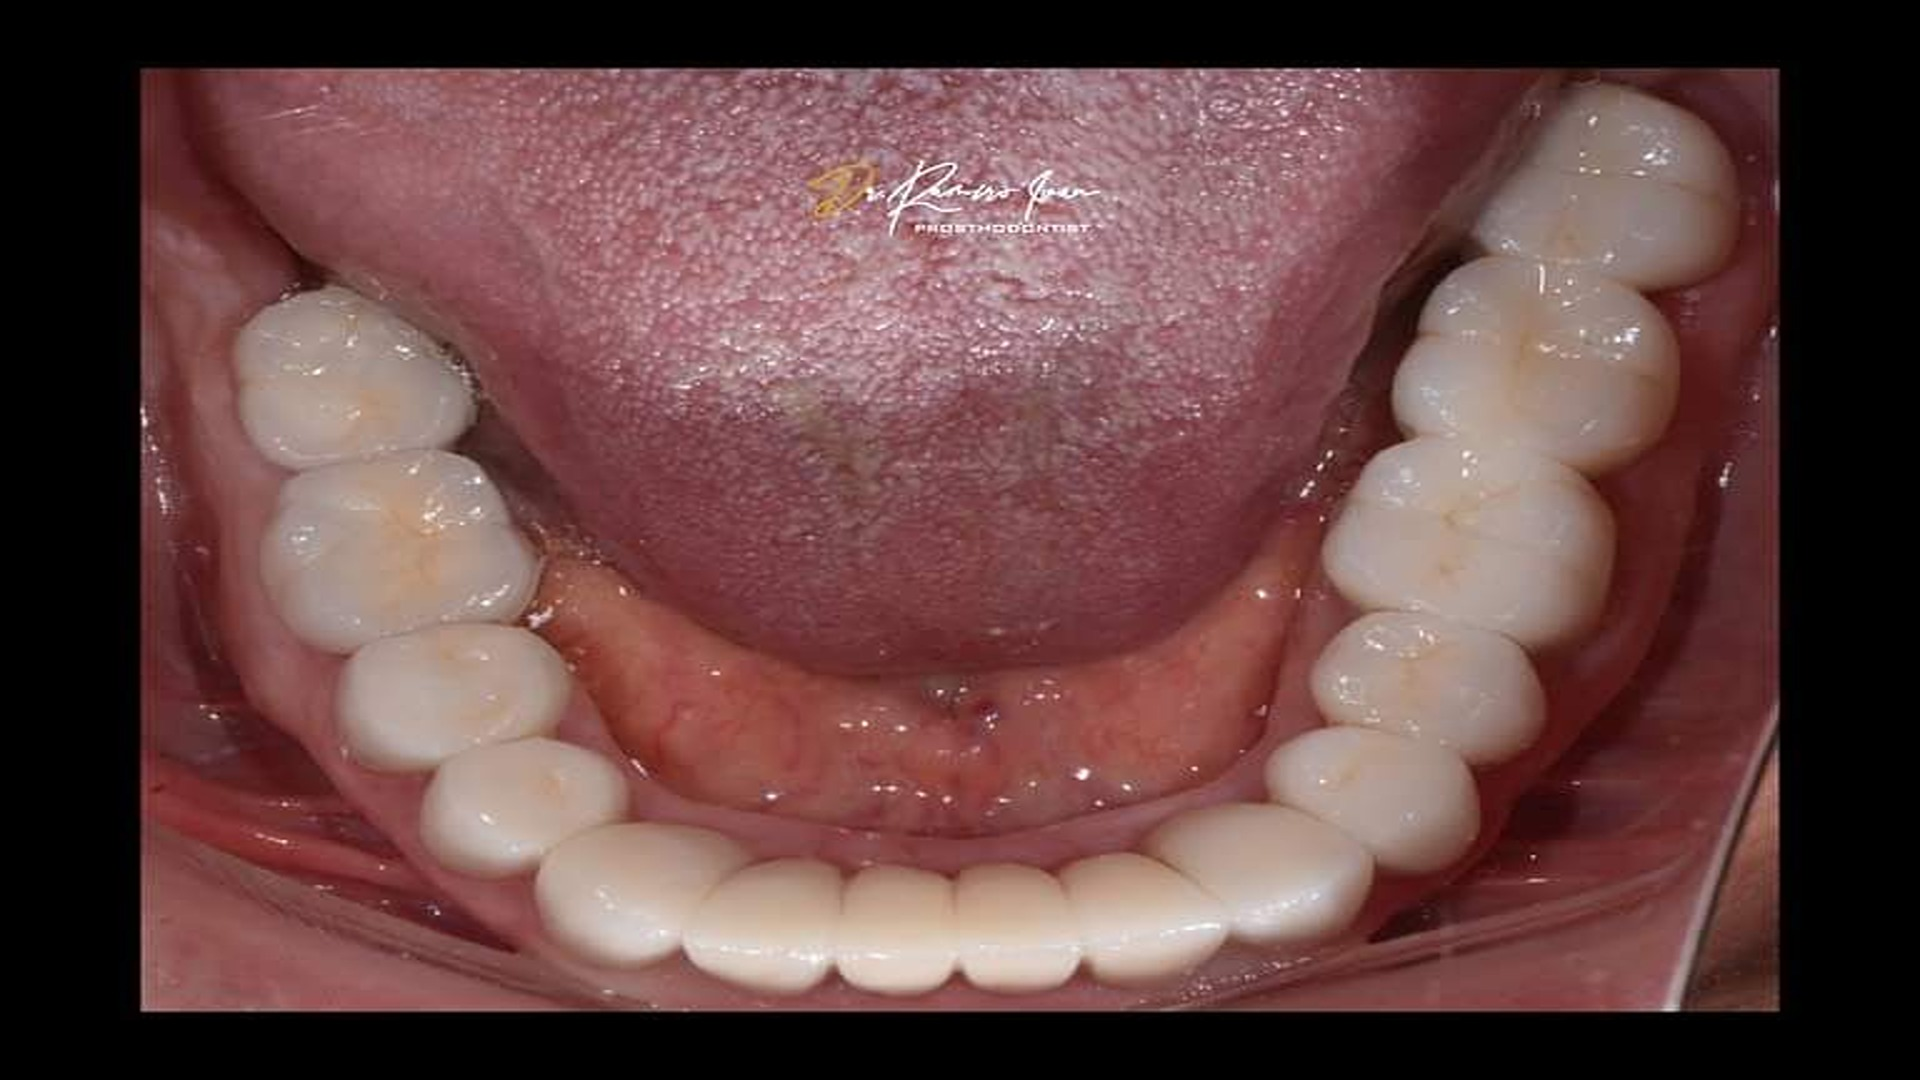tooth: (1390, 256, 1680, 477), (1321, 438, 1615, 649), (260, 448, 543, 651), (1472, 83, 1741, 293), (233, 285, 479, 469), (1309, 611, 1547, 766), (335, 624, 574, 771), (1263, 725, 1480, 874), (1139, 804, 1374, 942), (535, 823, 753, 971), (419, 737, 629, 880), (1058, 853, 1232, 984), (682, 857, 843, 994), (829, 864, 959, 996), (955, 862, 1081, 993)
